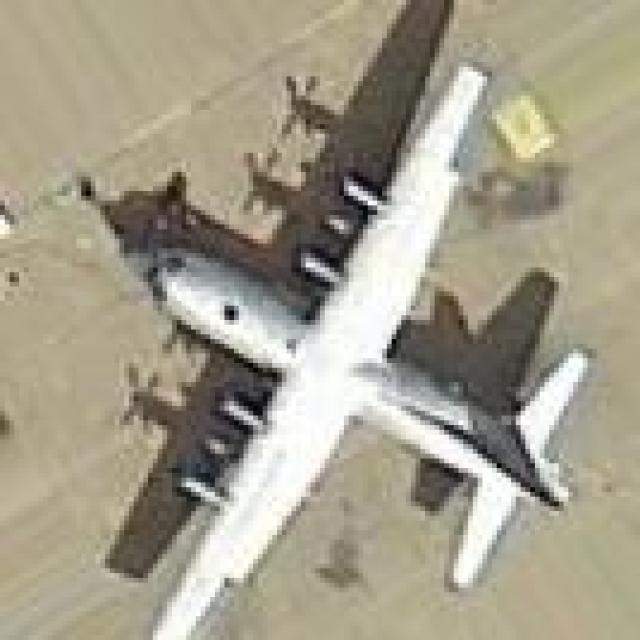C-130_TopDown: (94, 0, 594, 640)
